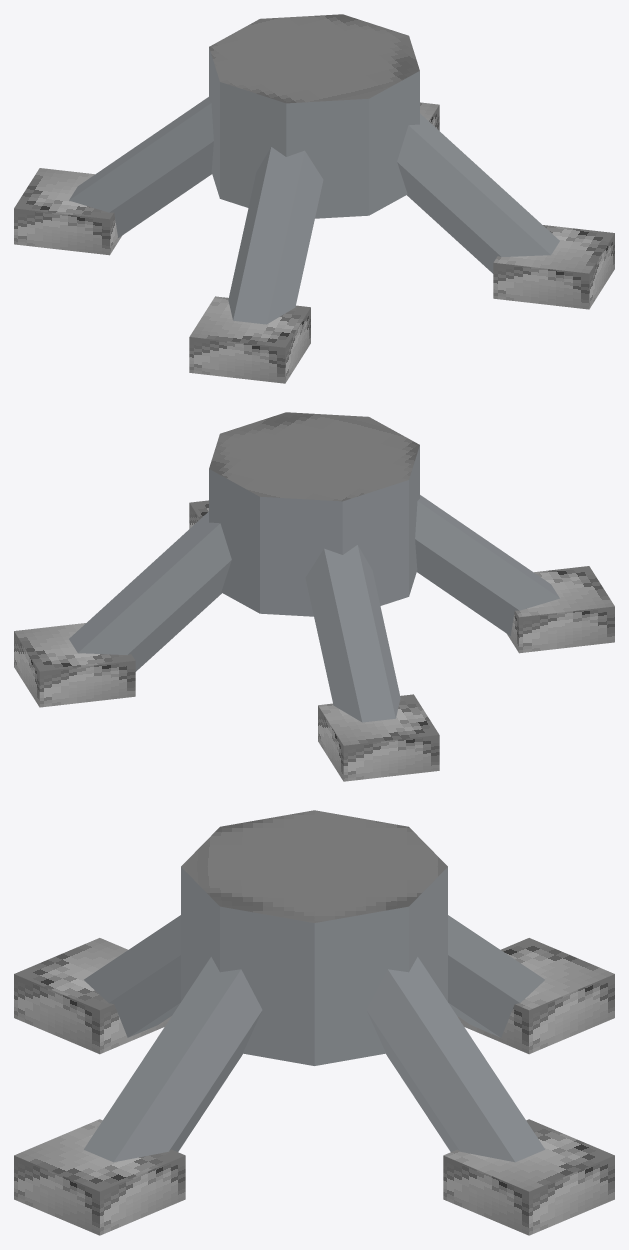
Rendered from Building_Turret_AncientArmoredTurret.glb.
The picture shows the model from 3 angles, top to bottom: view 1: azimuth 30°, elevation 25°; view 2: azimuth 150°, elevation 25°; view 3: azimuth 270°, elevation 25°; orthographic projection. The views are drawn at different scales.
Parts seen in each view (by area): view 1: Turret_AncientArmoredTurret; view 2: Turret_AncientArmoredTurret; view 3: Turret_AncientArmoredTurret.
Part boxes in pixels (x1,y1,x2,y2): Turret_AncientArmoredTurret: (14, 14, 614, 383); Turret_AncientArmoredTurret: (14, 412, 614, 781); Turret_AncientArmoredTurret: (14, 810, 614, 1235).
Bounding box in the file's own units: 0.9899 × 0.4662 × 0.9899.
1 material, 1 textured.
